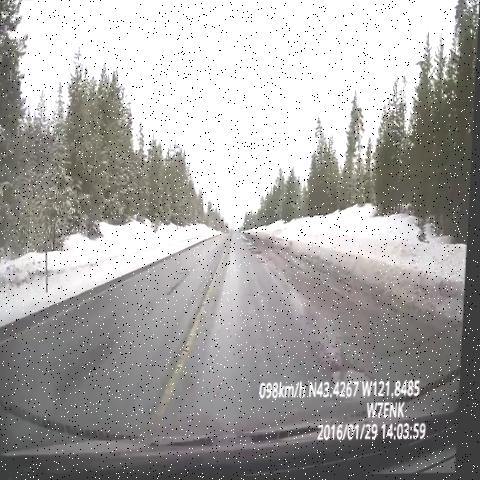pothole: (330, 354, 386, 404), (238, 233, 278, 274)
